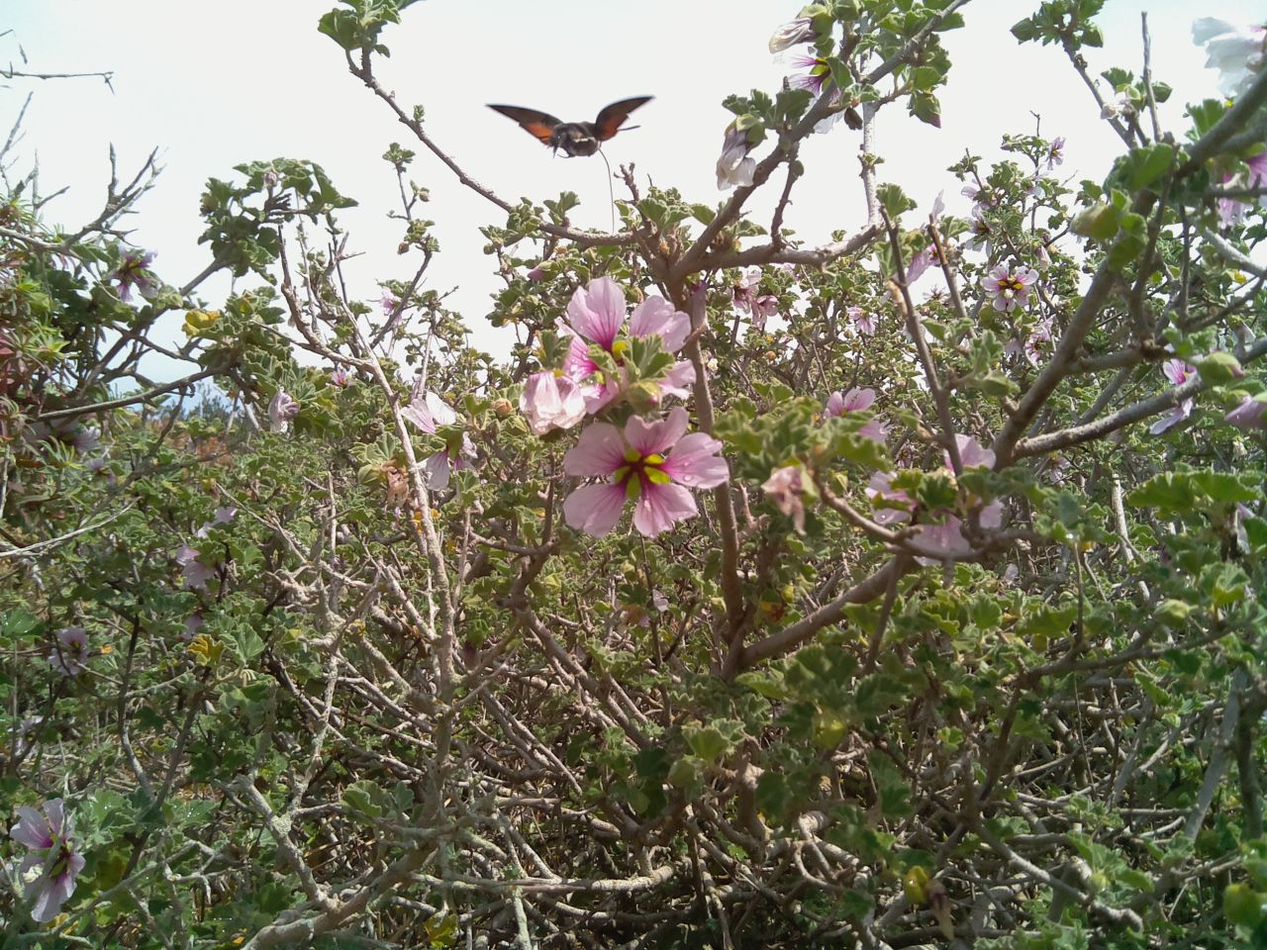Butterfly: (488, 91, 669, 165)
